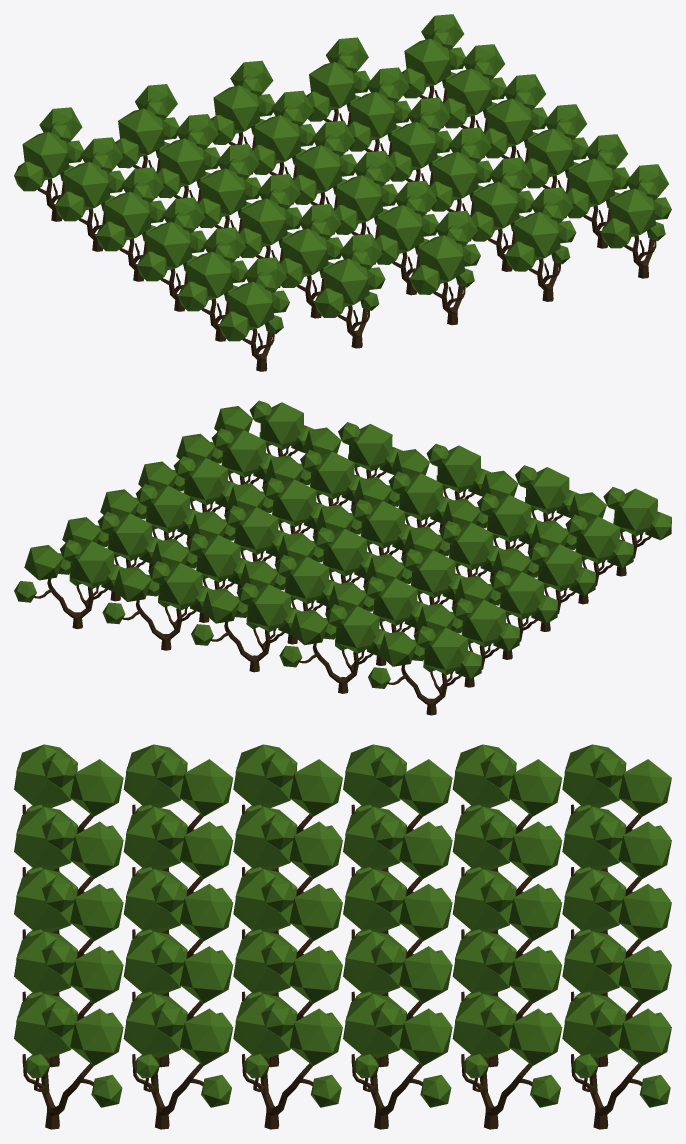
Rendered from demoscene.obj.
3 renders of one model, top to bottom at view 1: azimuth 30°, elevation 25°; view 2: azimuth 150°, elevation 25°; view 3: azimuth 270°, elevation 25°, orthographic. The views are drawn at different scales.
Parts seen in each view (by area): view 1: Tree_lp_11.001; view 2: Tree_lp_11.001; view 3: Tree_lp_11.001.
Part boxes in pixels (left/top/right/bottom): Tree_lp_11.001: left=14, top=14, right=671, bottom=371; Tree_lp_11.001: left=14, top=400, right=671, bottom=715; Tree_lp_11.001: left=14, top=744, right=671, bottom=1129.
Size of what is drawn, in the model's own units: 140 by 26.54 by 125.
